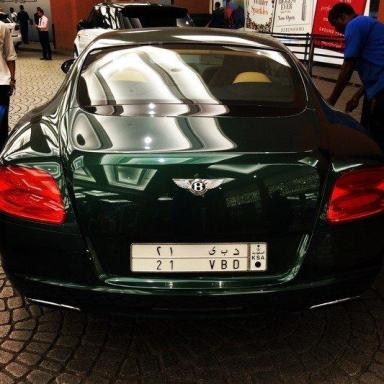License_Plate: (125, 236, 274, 276)
